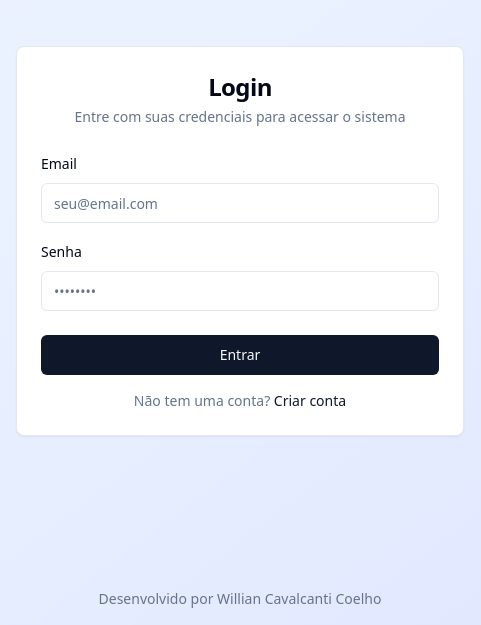
Scenario: Login Page › deve exibir mensagem de erro quando login falhar
Type "test@example.com" into the field labelled "Email".
click(240, 203); type("test@example.com")  # box 41,183 -> 439,223
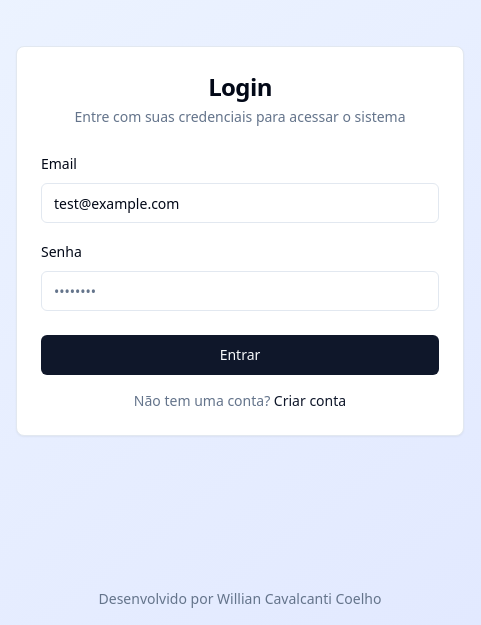
Type "wrongpassword" into the password field labelled "Senha".
click(240, 291); type("wrongpassword")  # box 41,271 -> 439,311
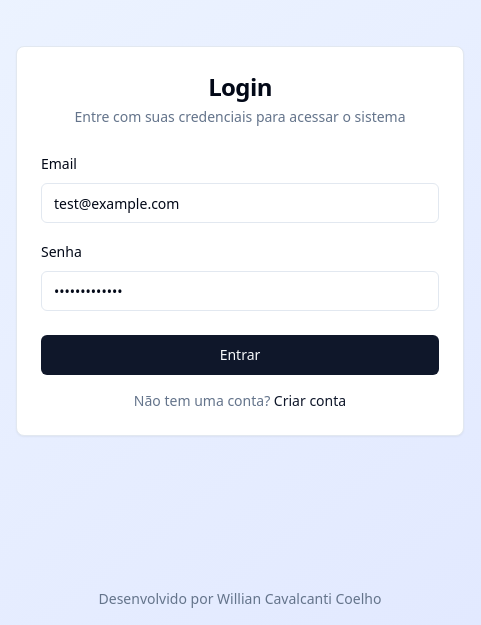
Click the button "Entrar".
click(240, 355)  # box 41,335 -> 439,375
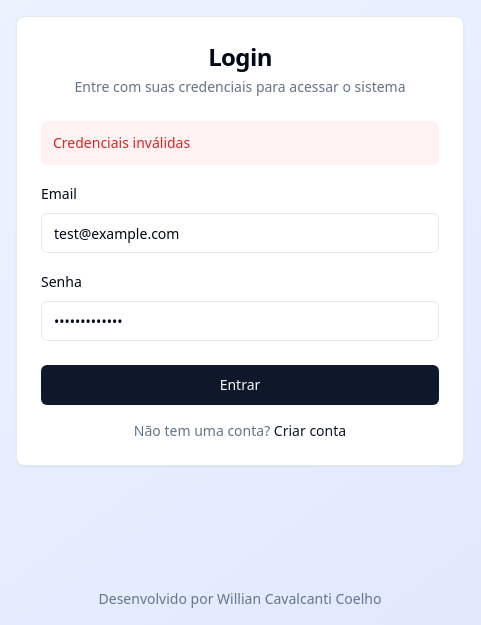
Now the text "Credenciais inválidas" is shown, box 41,121 -> 439,165
